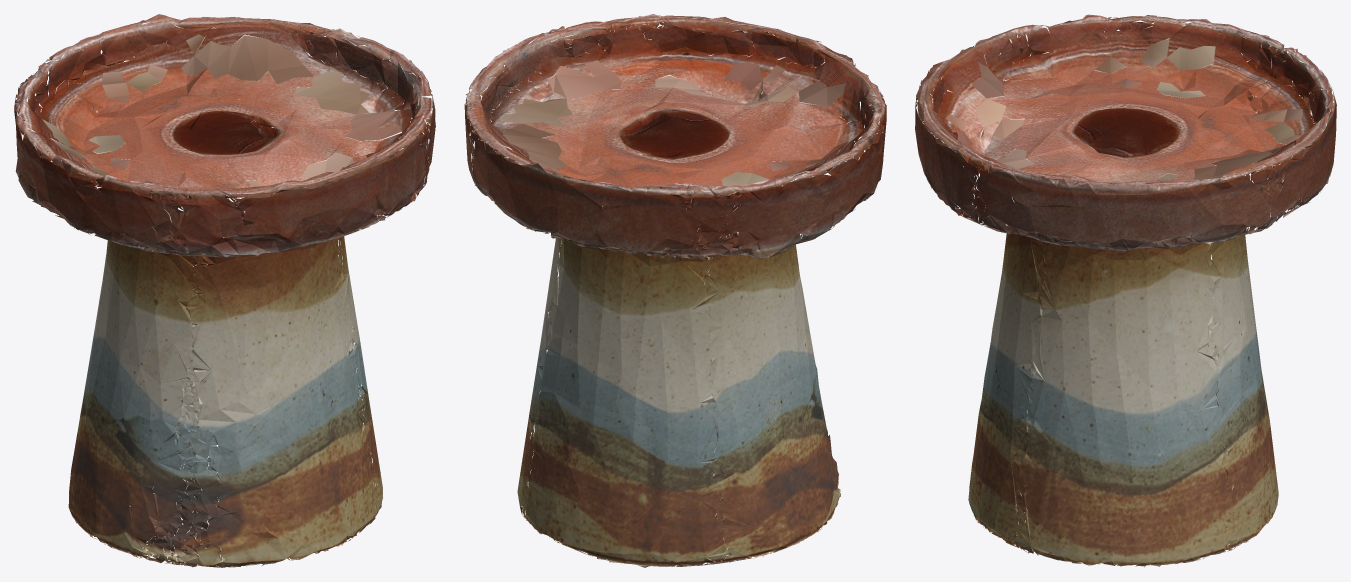
Rendered from dojagi_low.glb.
3 renders of one model, left to right at view 1: azimuth 30°, elevation 25°; view 2: azimuth 150°, elevation 25°; view 3: azimuth 270°, elevation 25°, orthographic.
Visible parts, largest first — view 1: Mesh_0_Part_0; view 2: Mesh_0_Part_0; view 3: Mesh_0_Part_0.
Part boxes in pixels (x1=…): Mesh_0_Part_0: x1=14, y1=14, x2=435, y2=567; Mesh_0_Part_0: x1=464, y1=14, x2=886, y2=567; Mesh_0_Part_0: x1=915, y1=14, x2=1336, y2=567.
Size of the model in its own units: 18.68 by 19.9 by 18.45.
Materials: 1 (1 with a texture image).
